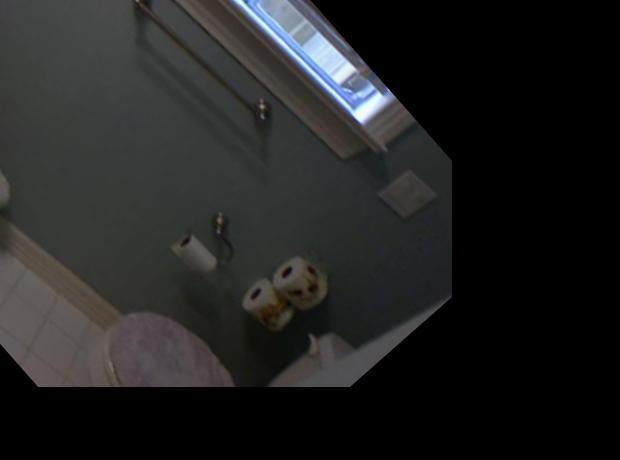Bote de Basura: (0, 128, 27, 266)
Sanitario: (43, 213, 369, 460)
